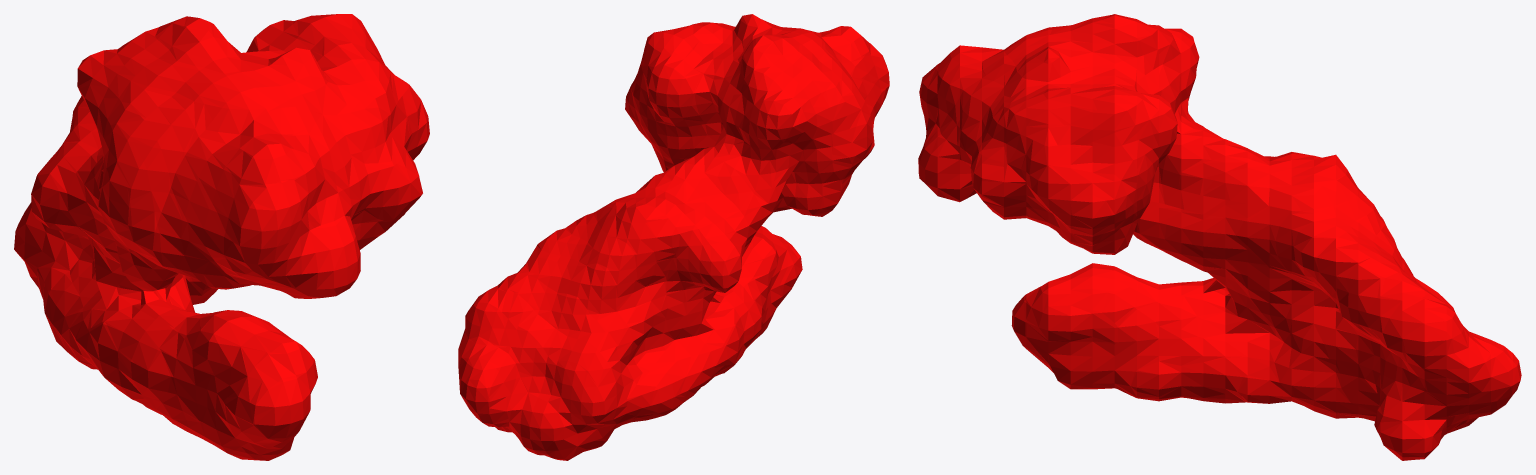
Rendered from cydD_coarse.dae.
3 views of the same model, side by side, from view 1: azimuth 30°, elevation 25°; view 2: azimuth 150°, elevation 25°; view 3: azimuth 270°, elevation 25° (orthographic). The views are drawn at different scales.
Visible parts, largest first — view 1: cydD; view 2: cydD; view 3: cydD.
Part boxes in pixels (box(x1,y1,x2,y2)): cydD: box(14, 14, 429, 460); cydD: box(458, 14, 889, 460); cydD: box(918, 14, 1521, 460).
Bounding box in the file's own units: 61.98 × 82.12 × 118.
